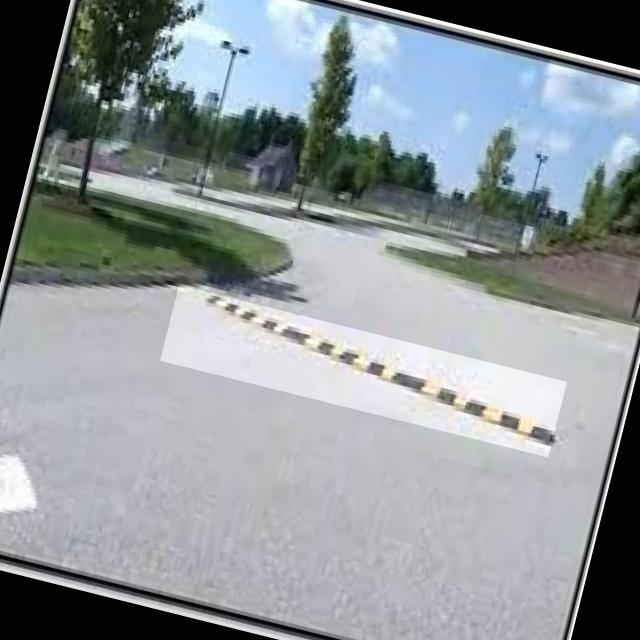bump: (159, 285, 566, 457)
